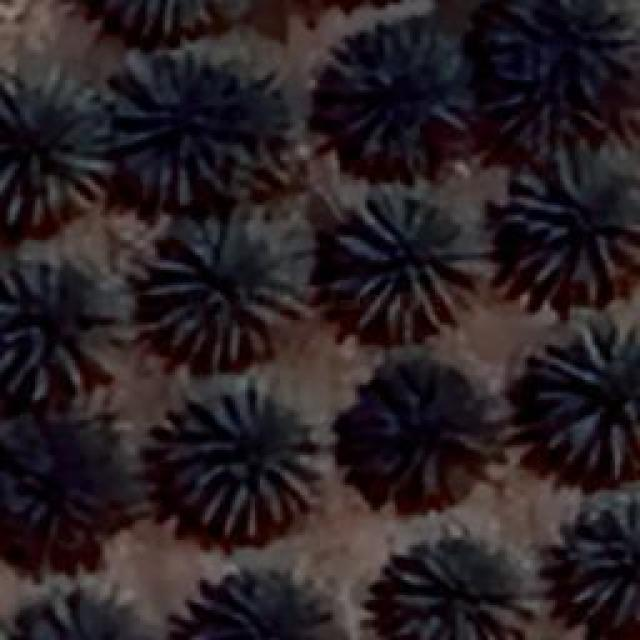PalmTree: (106, 50, 294, 205), (157, 380, 320, 545), (142, 210, 310, 365), (325, 195, 490, 345), (318, 22, 472, 160), (480, 5, 630, 145), (507, 142, 635, 302), (354, 359, 488, 509), (0, 260, 135, 400), (9, 420, 132, 565), (2, 70, 116, 225), (530, 320, 635, 478), (380, 534, 538, 638), (172, 575, 348, 640), (0, 572, 150, 640), (562, 492, 636, 626), (68, 0, 258, 38)
